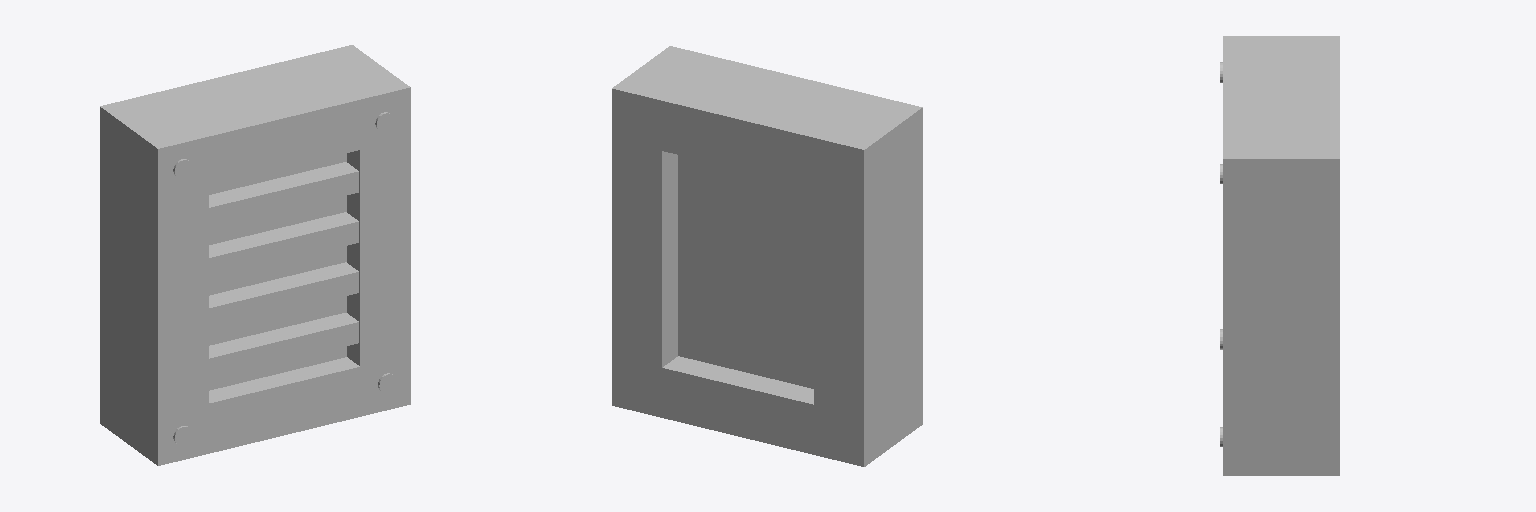
File: Vent.obj
3 renders of one model, left to right at view 1: azimuth 30°, elevation 25°; view 2: azimuth 150°, elevation 25°; view 3: azimuth 270°, elevation 25°, orthographic.
Parts seen in each view (by area): view 1: obj_0; view 2: obj_0; view 3: obj_0.
Boxes of the visible parts, <box> form: obj_0: <box>100,45,410,465</box>; obj_0: <box>612,46,922,466</box>; obj_0: <box>1220,36,1339,475</box>.
Size of the model in its own units: 100 by 120 by 41.